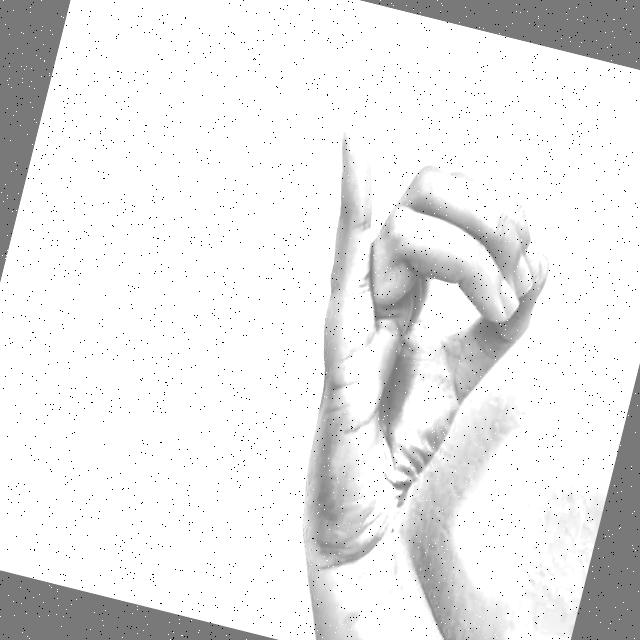Ou: (213, 74, 605, 623)
